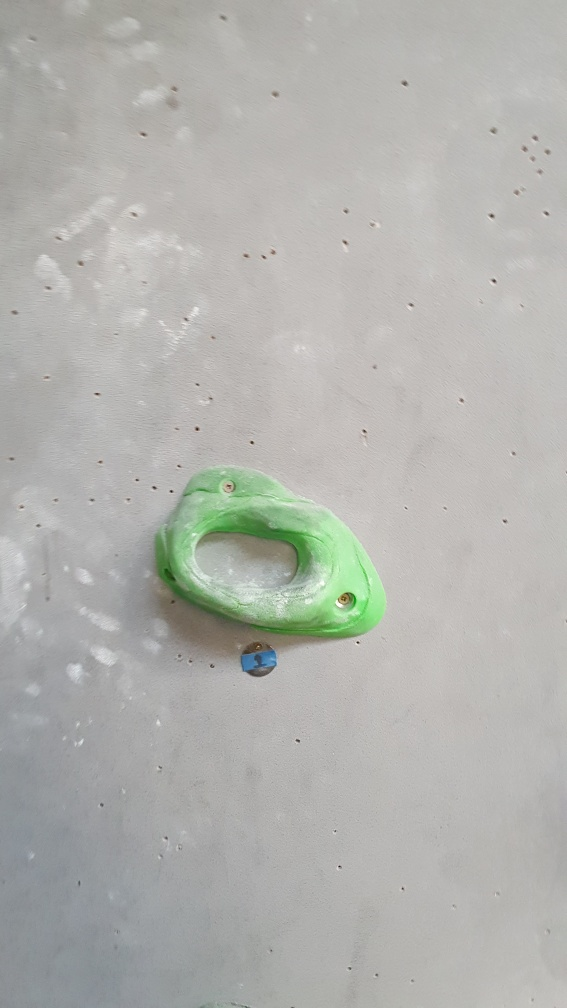Hand Start: (238, 639, 283, 681)
Pocket: (146, 464, 392, 641)
